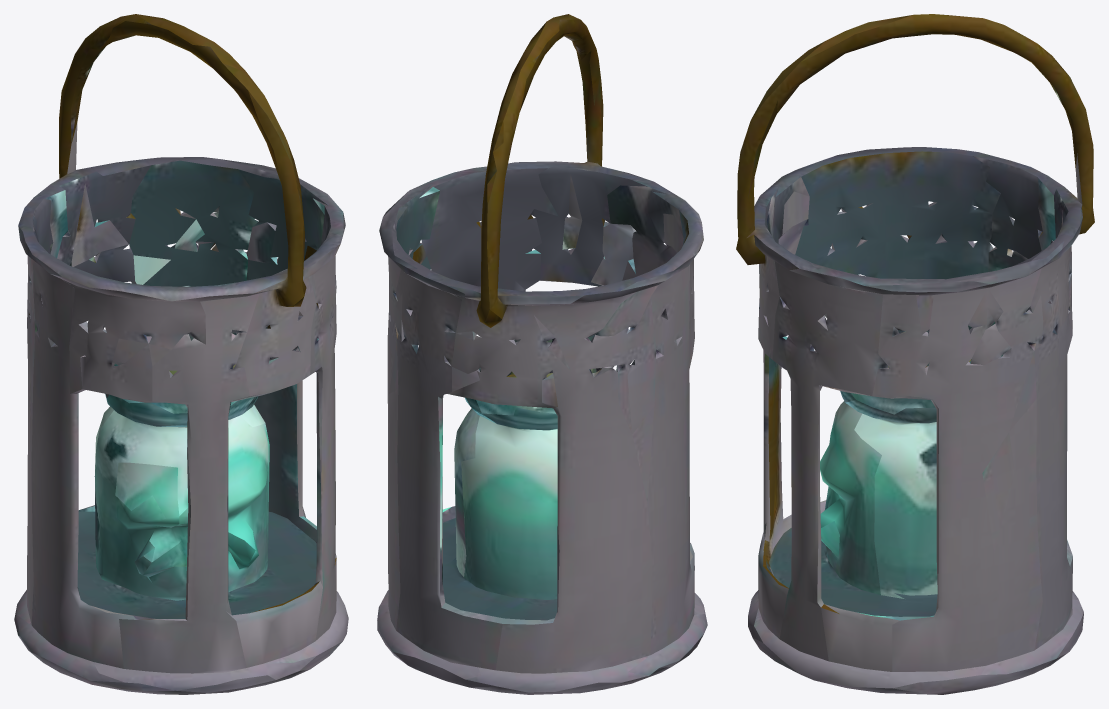
The model's file is tin_lantern.glb.
The picture shows the model from 3 angles, left to right: view 1: azimuth 30°, elevation 25°; view 2: azimuth 150°, elevation 25°; view 3: azimuth 270°, elevation 25°; orthographic projection. The views are drawn at different scales.
Parts seen in each view (by area): view 1: tin_lantern; view 2: tin_lantern; view 3: tin_lantern.
Boxes of the visible parts, x1,y1,x2,y2 form: tin_lantern: (14,14,348,694); tin_lantern: (377,14,707,694); tin_lantern: (736,14,1094,694).
Size of the model in its own units: 0.5019 by 1 by 0.5314.
1 material, 1 textured.
